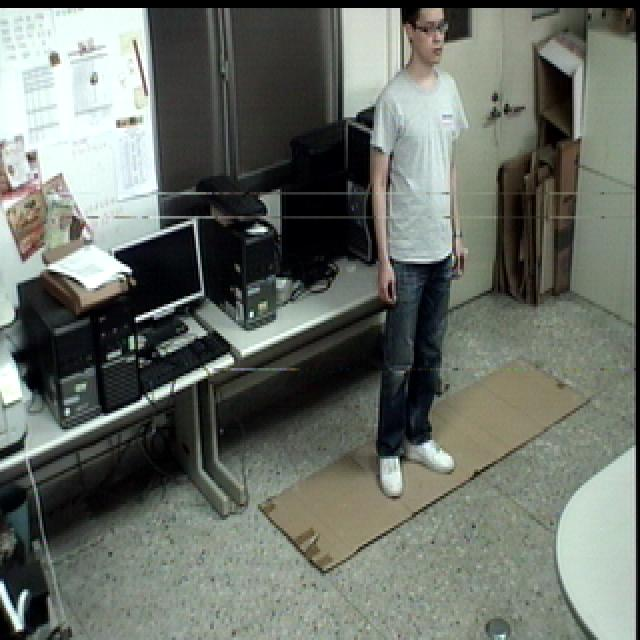stand: (360, 0, 476, 504)
